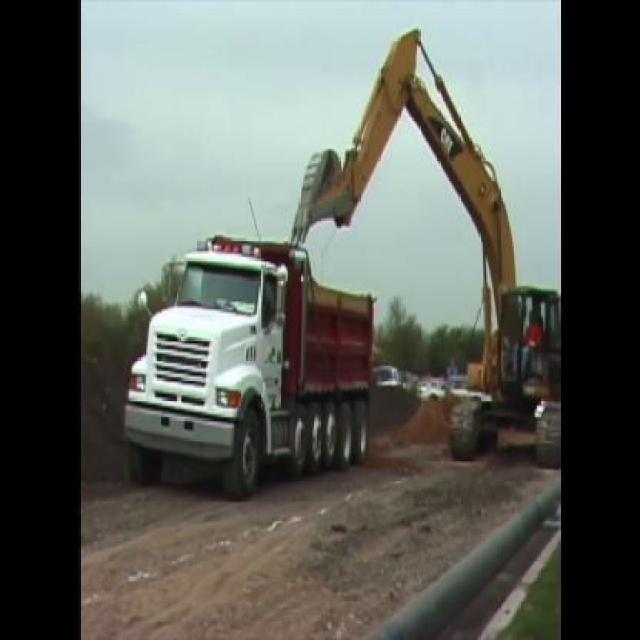dump_truck: (125, 218, 378, 494)
excavator: (290, 26, 561, 489)
